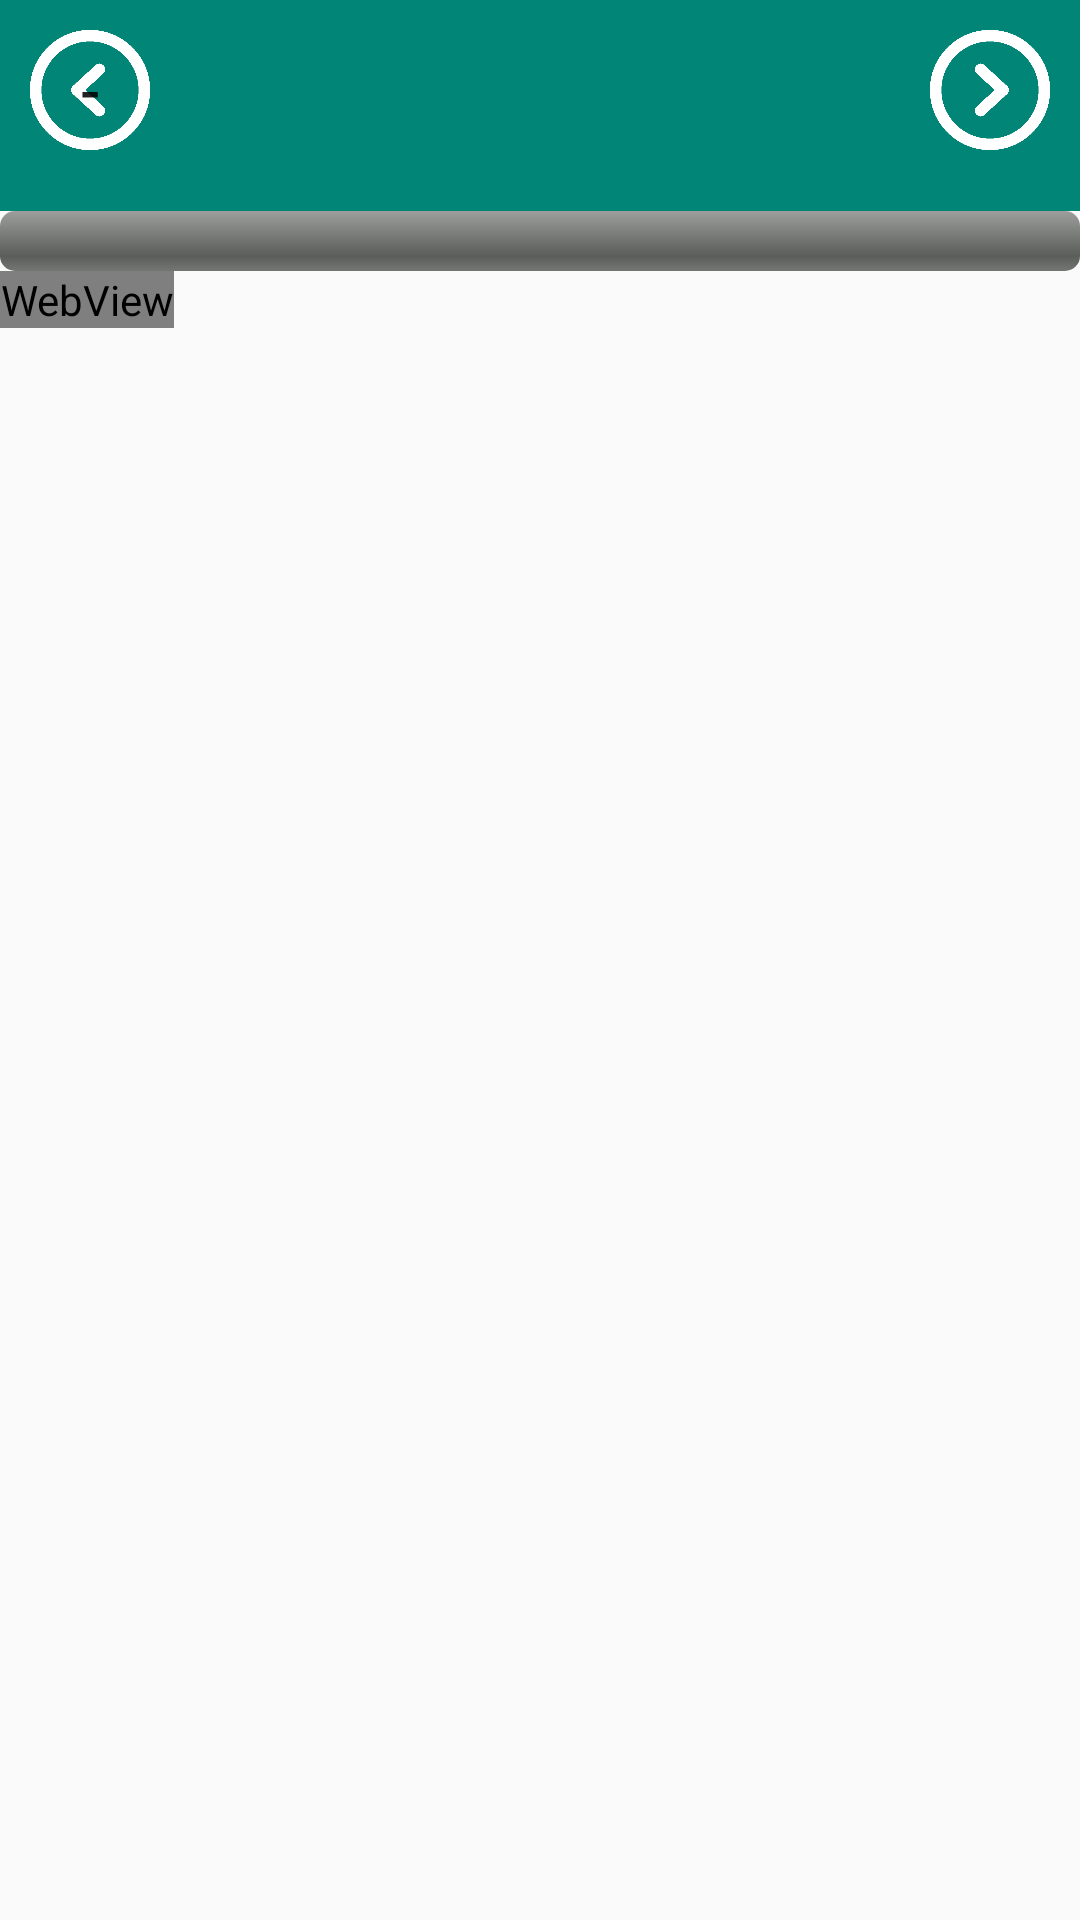

Where icons sit on this 1080 x 1920 app screen, as (x1, y1, x2, y2):
fleche droite: (930, 30, 1050, 150)
